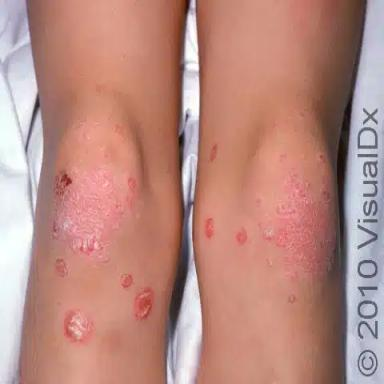Psoriasis: (258, 169, 334, 282), (53, 168, 125, 255), (65, 310, 93, 342), (134, 287, 153, 319), (126, 177, 137, 210), (55, 257, 70, 276), (205, 218, 215, 238), (236, 227, 247, 244), (121, 274, 133, 288), (210, 143, 217, 161), (288, 293, 297, 304), (317, 153, 325, 162)
